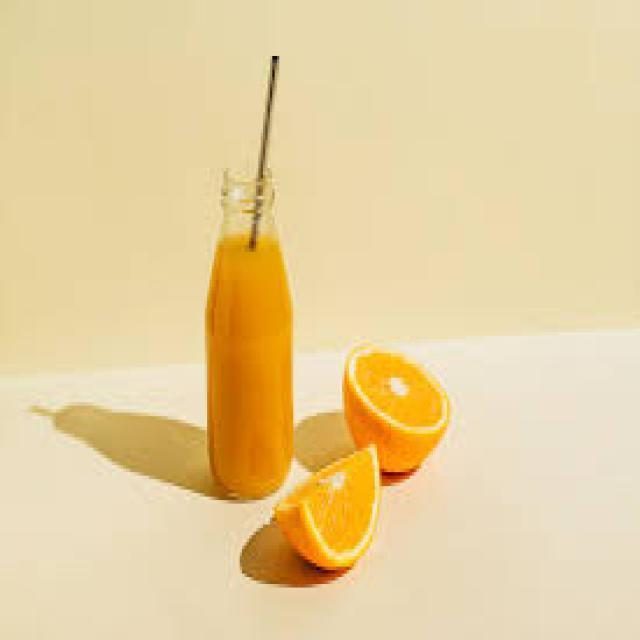non-mango: (341, 343, 451, 475), (272, 444, 381, 571)
